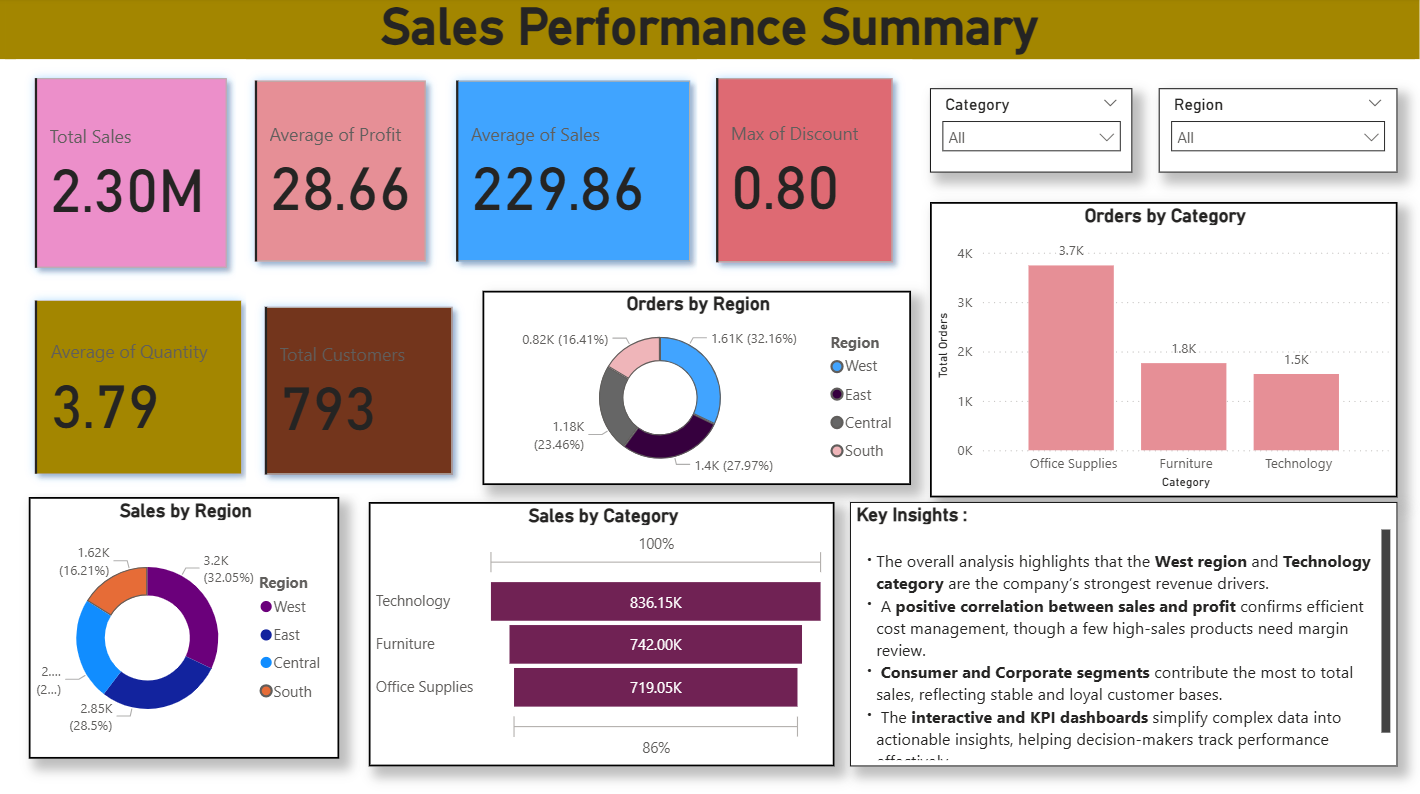

Layout of this report page (visuals, bound fields, positions):
{"tool":"powerbi","page":{"name":"Sales Performance Summary","canvas":[1280,720],"ordinal":3},"visuals":[{"type":"donutChart","title":" Sales by Region","fields":{"Category":["Orders.Region"],"Y":["CountNonNull(Orders.Sales)"]},"box":[26.2,451.2,280,236.2],"z":0},{"type":"textbox","title":"Sales Performance Summary","box":[0,0,1280,56.2],"z":1000},{"type":"cardVisual","fields":{"Data":["Orders.Total Sales"]},"box":[15,56.2,207.5,205],"z":2000},{"type":"cardVisual","fields":{"Data":["Avg(Orders.Quantity)"]},"box":[15,257.5,220,190],"z":3000},{"type":"cardVisual","fields":{"Data":["Avg(Orders.Profit)"]},"box":[212.5,58.8,188.8,197.5],"z":4000},{"type":"cardVisual","fields":{"Data":["Avg(Orders.Sales)"]},"box":[395,58.8,245,197.5],"z":5000},{"type":"cardVisual","fields":{"Data":["Max(Orders.Discount)"]},"box":[628.8,56.2,193.8,200],"z":6000},{"type":"funnel","title":"Sales by Category","fields":{"Category":["Orders.Category"],"Y":["Sum(Orders.Sales)"]},"box":[332.5,455,420,238.8],"z":7000},{"type":"donutChart","title":"Orders by Region","fields":{"Category":["Orders.Region"],"Y":["Orders.Total Orders"]},"box":[435,265,386.2,175],"z":8000},{"type":"clusteredColumnChart","title":"Orders by Category","fields":{"Category":["Orders.Category"],"Y":["Orders.Total Orders"]},"box":[838.8,185,421.2,266.2],"z":9000},{"type":"slicer","fields":{"Values":["Orders.Category"]},"box":[838.8,82.5,182.5,76.2],"z":10000},{"type":"slicer","fields":{"Values":["Orders.Region"]},"box":[1045,82.5,215,76.2],"z":11000},{"type":"textbox","title":"Key Insights :","box":[766.2,455,493.8,238.8],"z":12000},{"type":"cardVisual","fields":{"Data":["Orders.Total Customers"]},"box":[222.5,262.5,203.8,185],"z":13000}]}

Visuals, with their boxes in screenshot pixels (x1, y1, x2, y2), scaled from the page's 1280x720 canvas onto the 1420x794 screenshot:
" Sales by Region" donutChart: bbox=[29, 498, 340, 758]
"Sales Performance Summary" textbox: bbox=[0, 0, 1419, 62]
cardVisual - Orders.Total Sales: bbox=[17, 62, 247, 288]
cardVisual - Avg(Orders.Quantity): bbox=[17, 284, 261, 493]
cardVisual - Avg(Orders.Profit): bbox=[236, 65, 445, 283]
cardVisual - Avg(Orders.Sales): bbox=[438, 65, 710, 283]
cardVisual - Max(Orders.Discount): bbox=[698, 62, 913, 283]
"Sales by Category" funnel: bbox=[369, 502, 835, 765]
"Orders by Region" donutChart: bbox=[483, 292, 911, 485]
"Orders by Category" clusteredColumnChart: bbox=[931, 204, 1398, 498]
slicer - Orders.Category: bbox=[931, 91, 1133, 175]
slicer - Orders.Region: bbox=[1159, 91, 1398, 175]
"Key Insights :" textbox: bbox=[850, 502, 1398, 765]
cardVisual - Orders.Total Customers: bbox=[247, 289, 473, 493]
